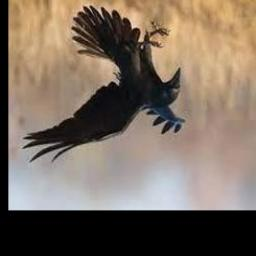Crow: (23, 6, 185, 165)
